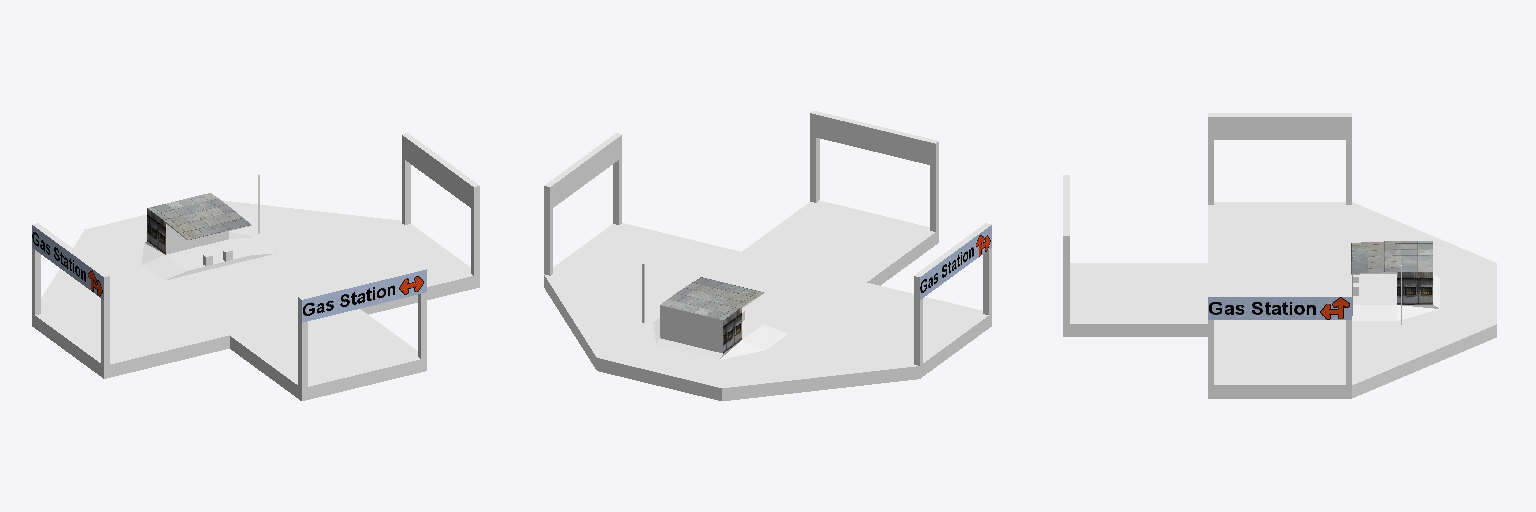
3 views of the same model, side by side, from view 1: azimuth 30°, elevation 25°; view 2: azimuth 150°, elevation 25°; view 3: azimuth 270°, elevation 25° (orthographic).
Visible parts, largest first — view 1: cube1; view 2: cube1; view 3: cube1.
Boxes of the visible parts, x1,y1,x2,y2 form: cube1: [32, 133, 479, 400]; cube1: [544, 111, 991, 400]; cube1: [1063, 113, 1496, 398].
Bounding box in the file's own units: 6 × 1.55 × 6.
13 materials, 3 textured.